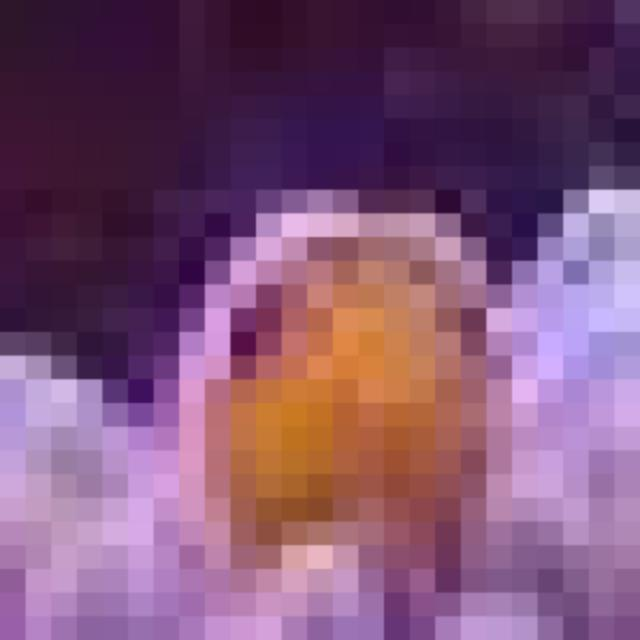fish: (25, 23, 640, 640)
